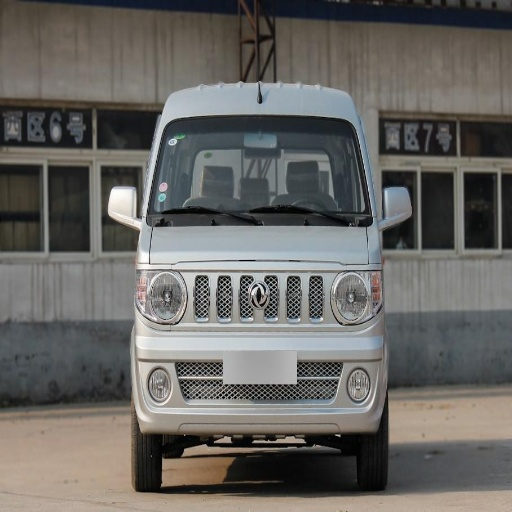front_bumper: (137, 264, 379, 432)
hood: (153, 229, 371, 266)
left_mirror: (382, 186, 413, 230)
